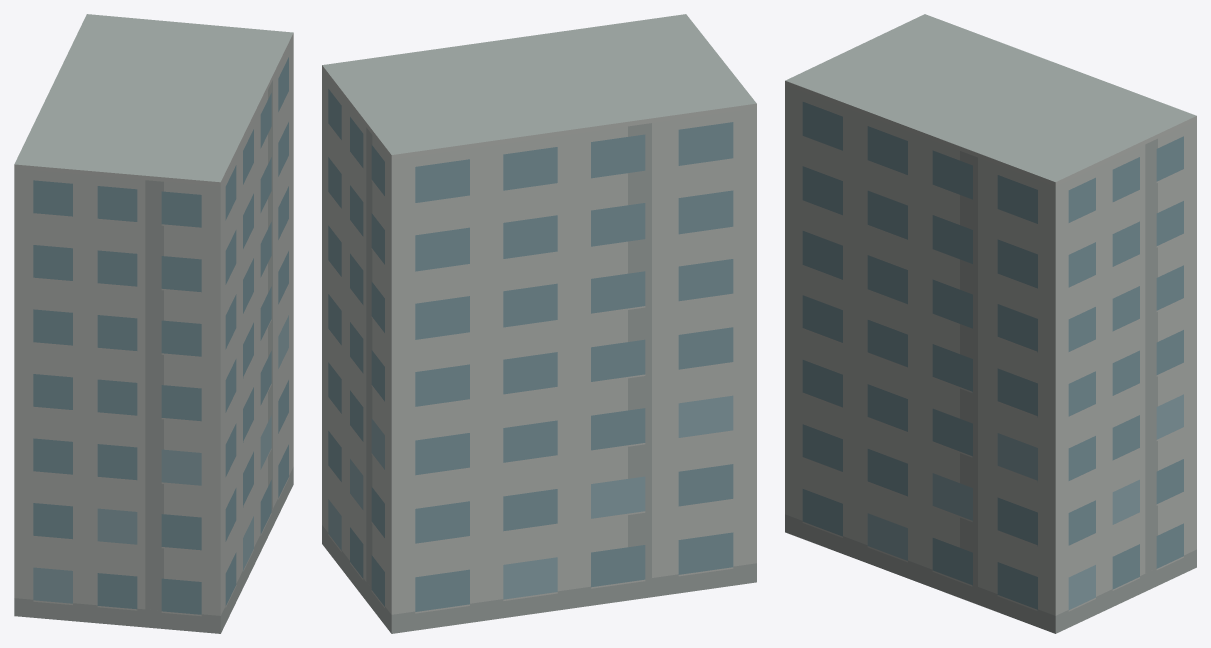
The model's file is survey-upis-32950659.glb.
3 renders of one model, left to right at view 1: azimuth 30°, elevation 25°; view 2: azimuth 150°, elevation 25°; view 3: azimuth 270°, elevation 25°, orthographic. The views are drawn at different scales.
Visible parts, largest first — view 1: survey-upis-32950659.tmp; view 2: survey-upis-32950659.tmp; view 3: survey-upis-32950659.tmp.
Boxes of the visible parts, x1,y1,x2,y2 form: survey-upis-32950659.tmp: (14, 14, 293, 633); survey-upis-32950659.tmp: (322, 14, 756, 633); survey-upis-32950659.tmp: (785, 14, 1196, 633).
Size of the model in its own units: 19.94 by 24.95 by 20.62.
